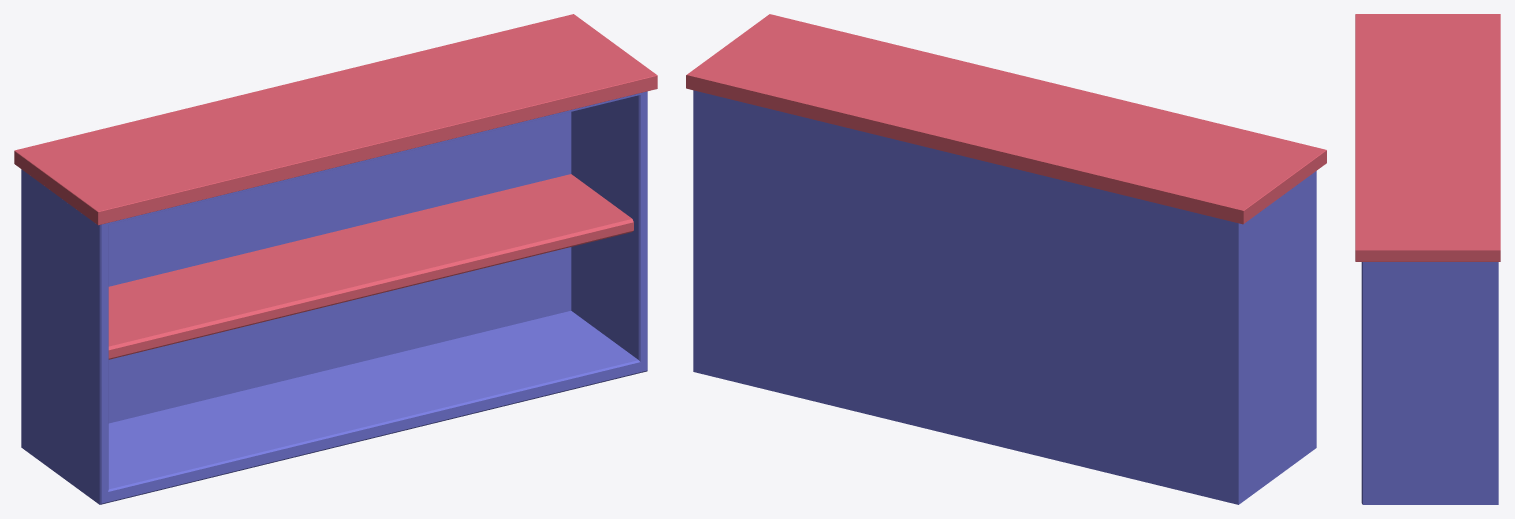
The model's file is BS_SmallBookShelf.fbx.
The picture shows the model from 3 angles, left to right: view 1: azimuth 30°, elevation 25°; view 2: azimuth 150°, elevation 25°; view 3: azimuth 270°, elevation 25°; orthographic projection. The views are drawn at different scales.
Parts seen in each view (by area): view 1: ShelfShort; view 2: ShelfShort; view 3: ShelfShort.
Boxes of the visible parts, left/top/right/bottom form: ShelfShort: left=14, top=14, right=657, bottom=504; ShelfShort: left=686, top=14, right=1326, bottom=504; ShelfShort: left=1355, top=14, right=1500, bottom=504.
Bounding box in the file's own units: 125 × 63.26 × 32.3.
